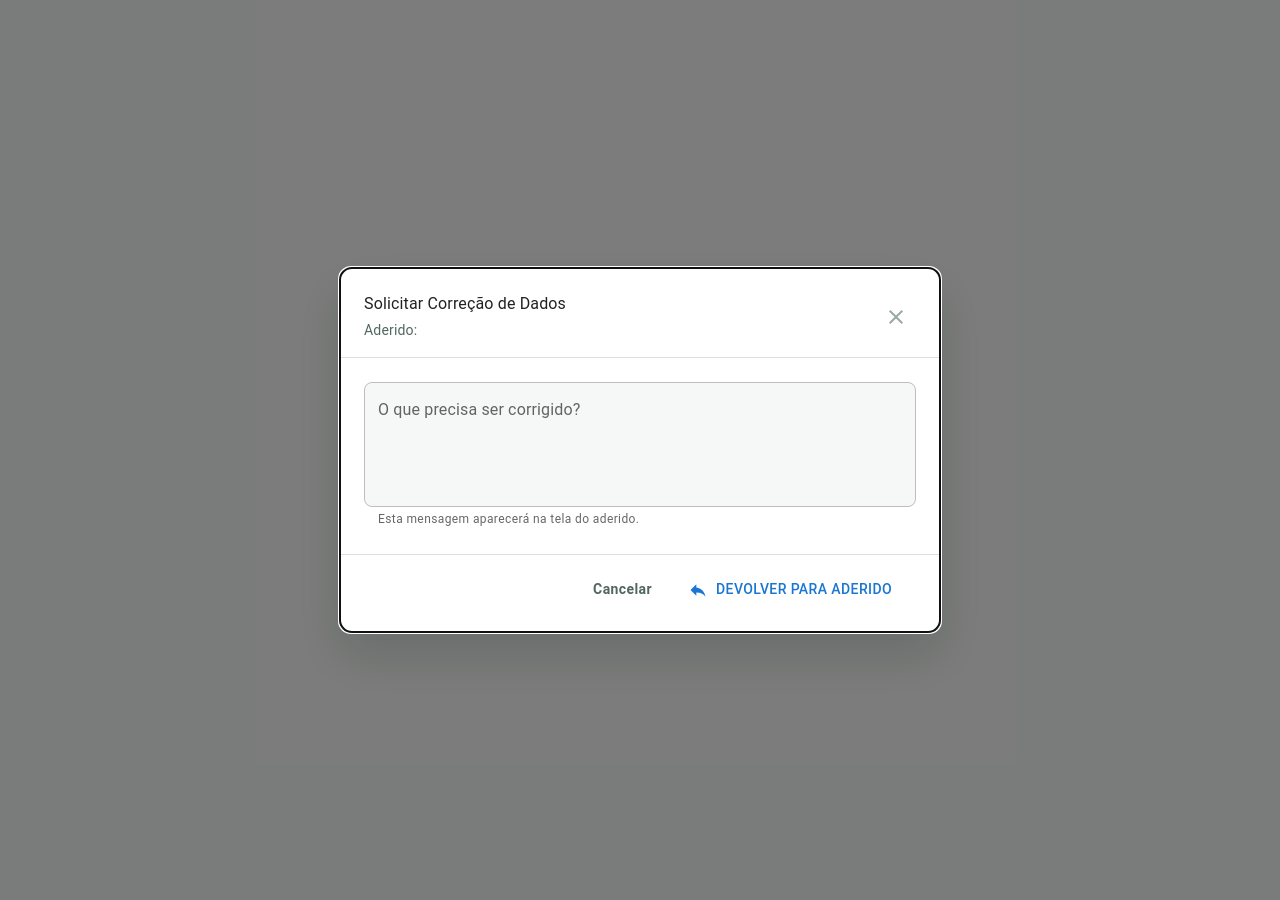
Test: NotificarCorrecaoDialog › shows error if message is too short and resets it on change
Type "abc" into the text box labelled "O que precisa ser corrigido?" at (640, 445), box [378,399,902,491]
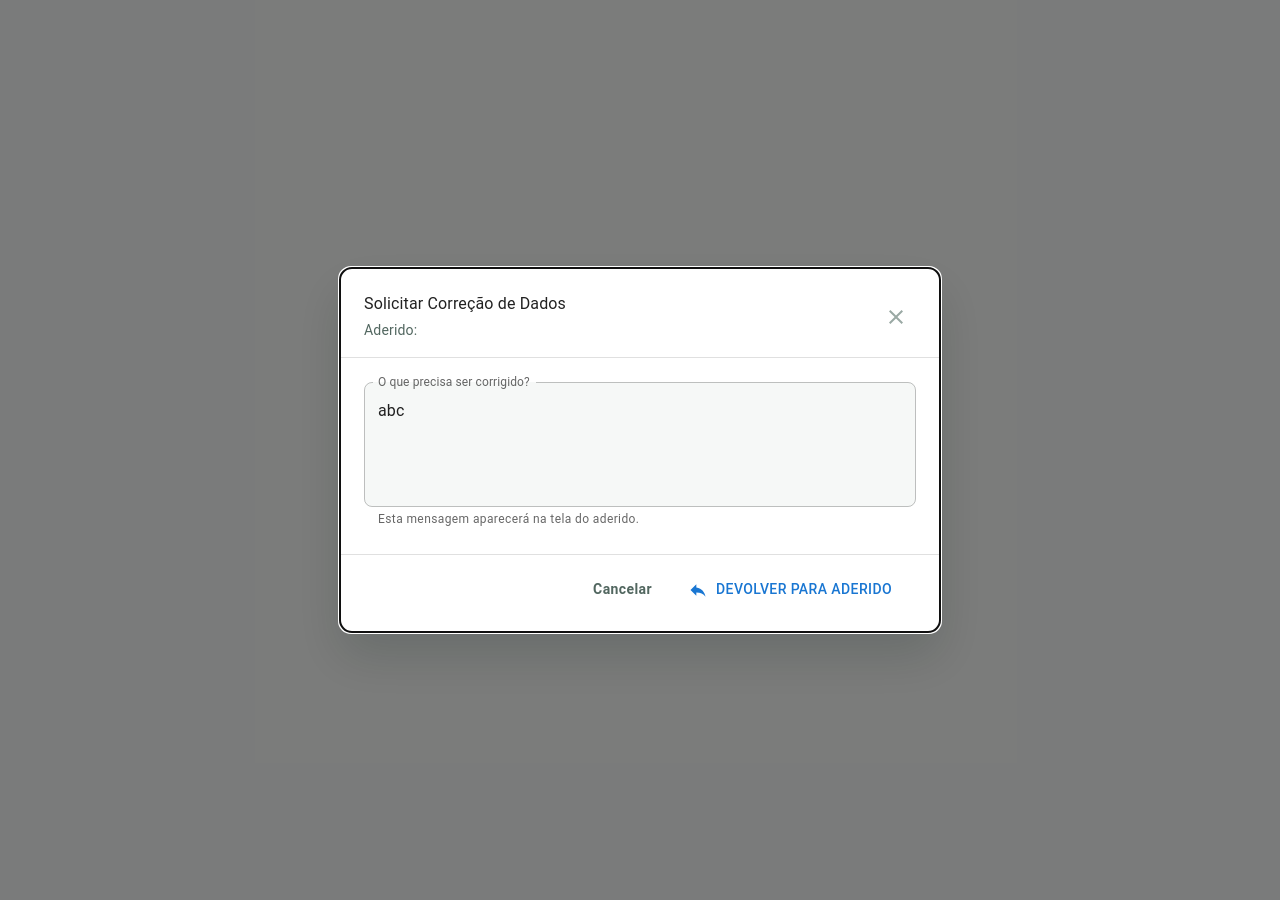
Submit the form, box [340,268,940,632]
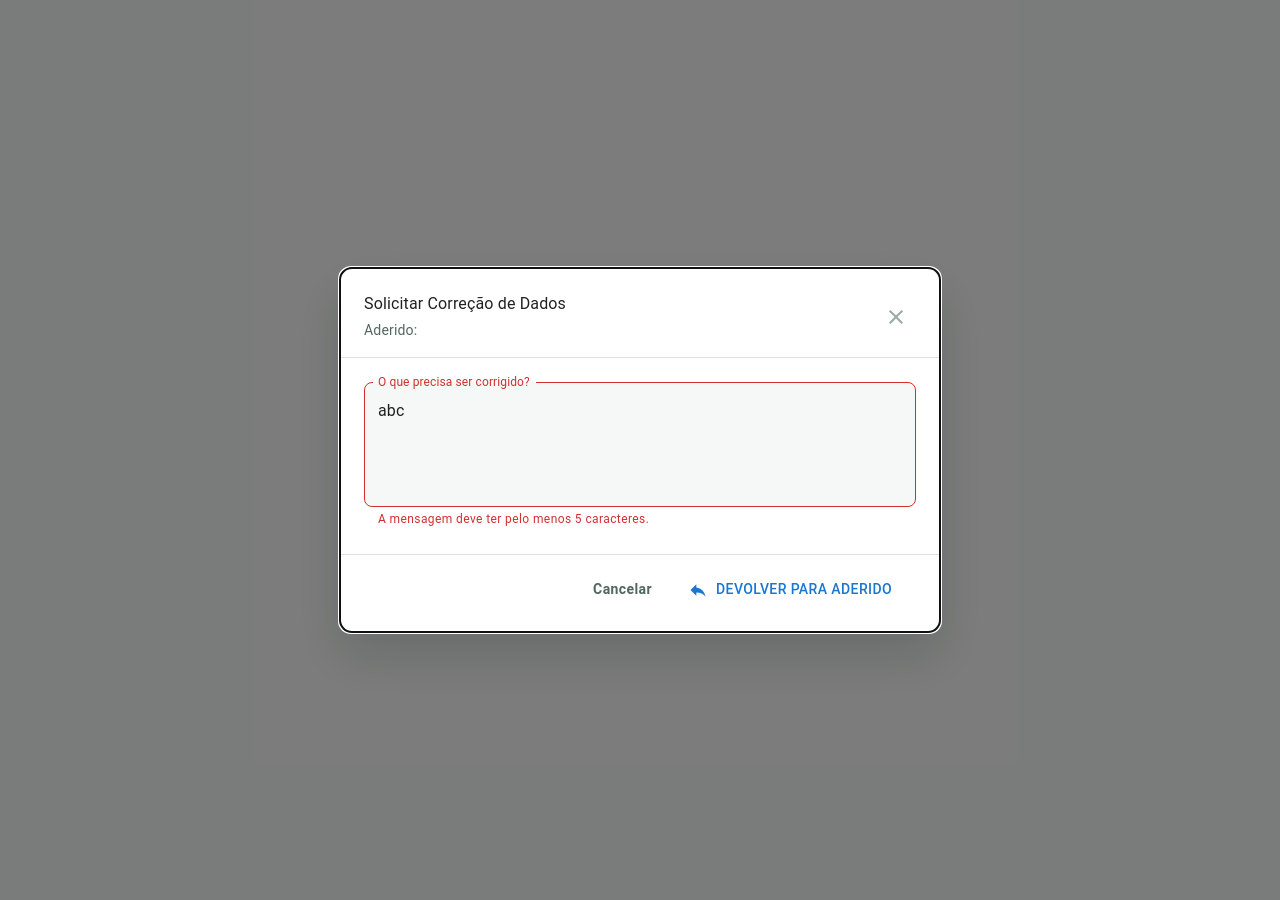
Check: the text "A mensagem deve ter pelo menos 5 caracteres." is shown, box [378,512,649,526]
Change value again to reset error
Replace the text in the text box labelled "O que precisa ser corrigido?" with "abcdef" at (640, 445), box [378,399,902,491]
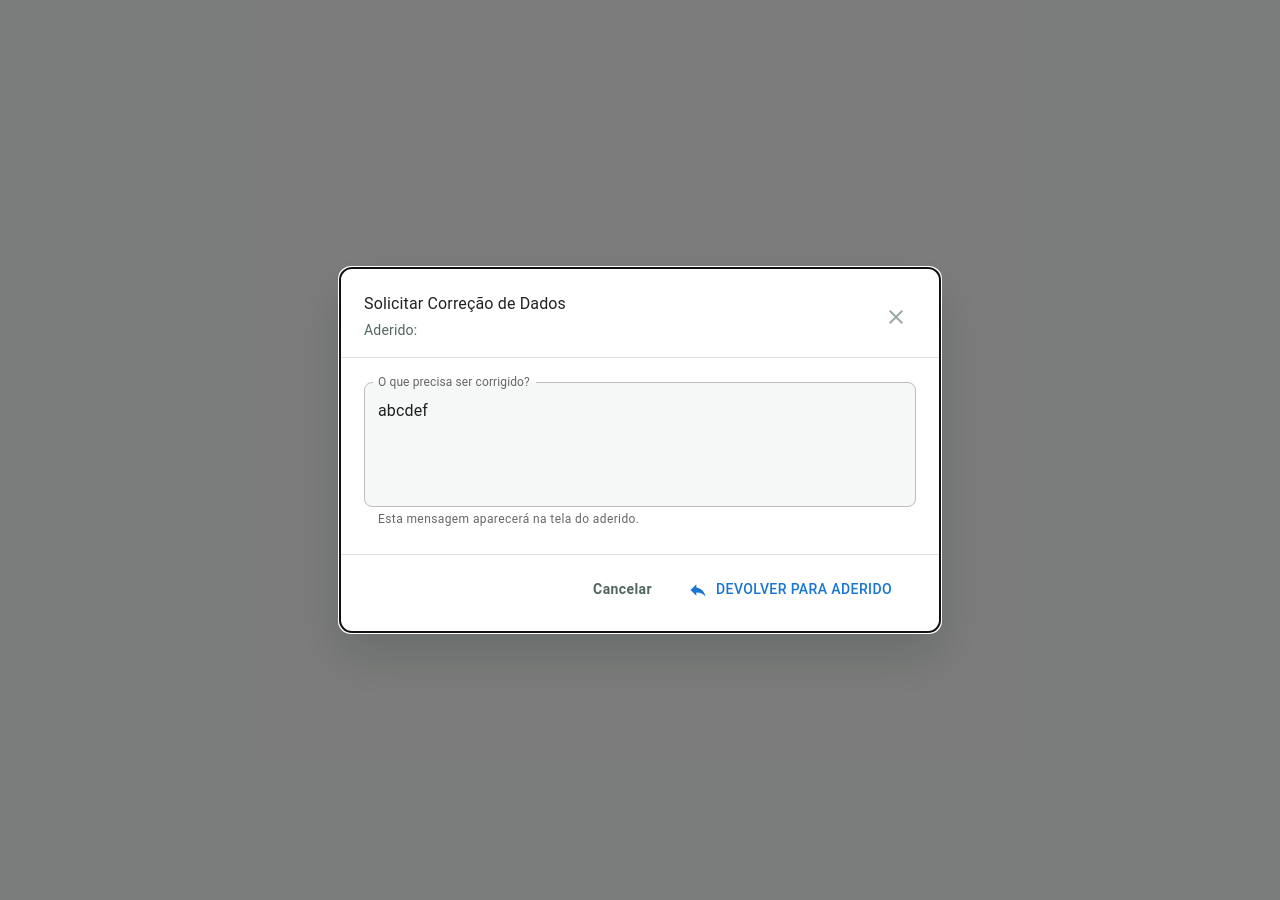
Check: the text "A mensagem deve ter pelo menos 5 caracteres." is gone
